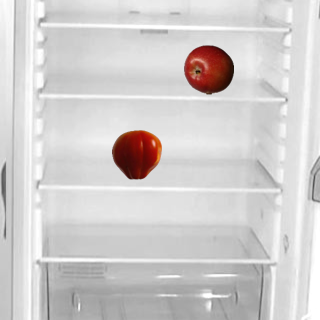Apple Braeburn: (183, 44, 233, 94)
Tomato 1: (111, 129, 161, 179)
